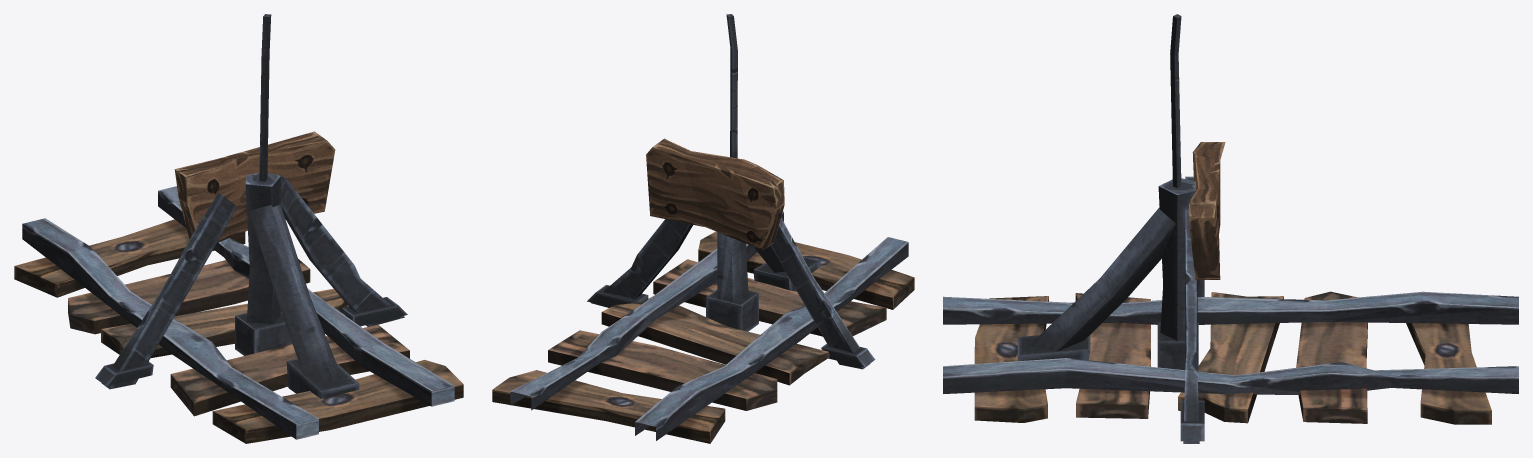
Rendered from bandit_track_end_01.fbx.
3 views of the same model, side by side, from view 1: azimuth 30°, elevation 25°; view 2: azimuth 150°, elevation 25°; view 3: azimuth 270°, elevation 25° (orthographic). The views are drawn at different scales.
Parts seen in each view (by area): view 1: obj1.153; view 2: obj1.153; view 3: obj1.153.
Boxes of the visible parts, left/top/right/bottom form: obj1.153: left=14, top=14, right=463, bottom=443; obj1.153: left=492, top=14, right=914, bottom=443; obj1.153: left=943, top=14, right=1518, bottom=443.
Bounding box in the file's own units: 2.54 × 2.76 × 4.
